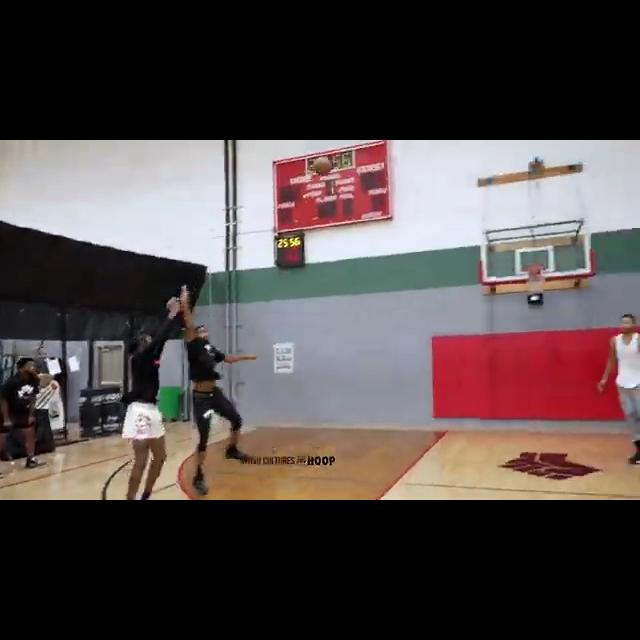basketball: (313, 156, 332, 176)
hoop: (521, 264, 547, 292)
person: (176, 282, 258, 497), (119, 330, 167, 500), (597, 312, 640, 469), (0, 354, 50, 475)
